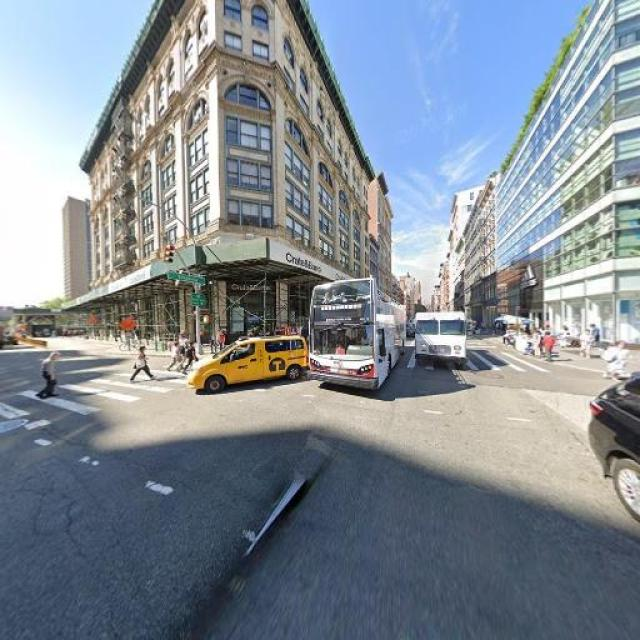Building: (93, 1, 368, 338), (498, 1, 640, 335)
